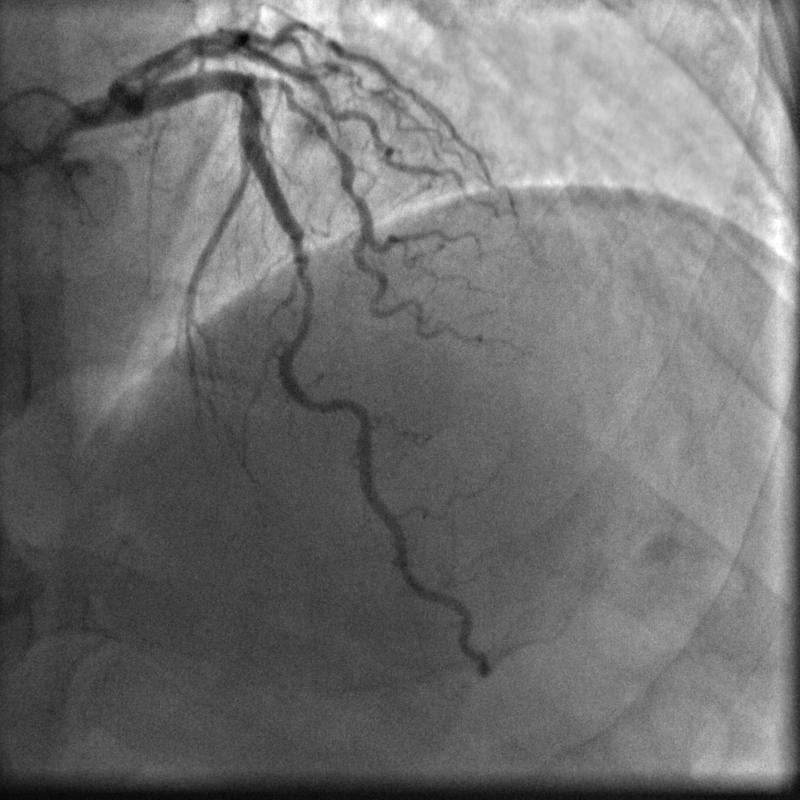Stenosis: (283, 241, 316, 346)
